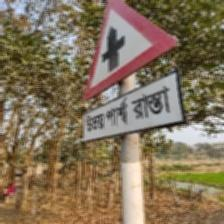Crossroad: (80, 0, 186, 143)
